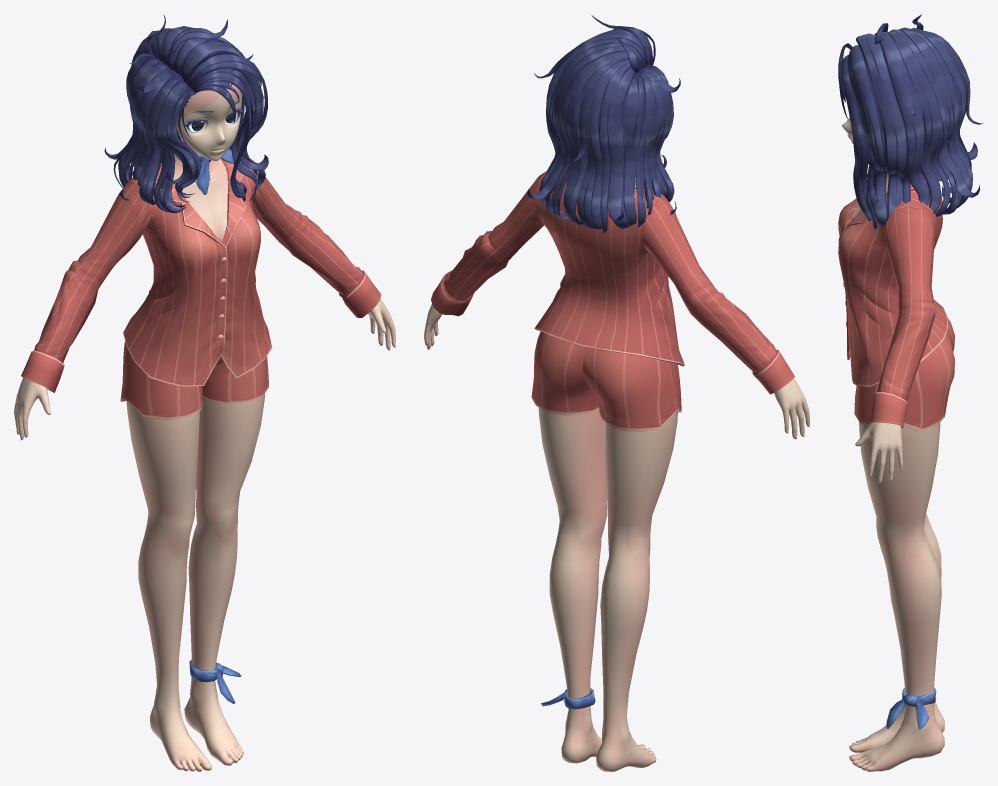
The model's file is sleepy_mita.glb.
The picture shows the model from 3 angles, left to right: view 1: azimuth 30°, elevation 25°; view 2: azimuth 150°, elevation 25°; view 3: azimuth 270°, elevation 25°; orthographic projection.
Parts seen in each view (by area): view 1: Clothes, Body_004, Hairs_003_1, Head_1_004, BodyTie2; view 2: Clothes, Body_004, Hairs_003_1; view 3: Clothes, Hairs_003_1, Body_004, BodyTie2.
Part boxes in pixels (x1,y1,x2,y2): Clothes: (21,158,381,419); Body_004: (14,154,395,771); Hairs_003_1: (104,14,268,213); Head_1_004: (176,83,243,161); BodyTie2: (189,660,241,703); Clothes: (431,171,794,431); Body_004: (424,304,809,771); Hairs_003_1: (527,15,680,232); Clothes: (838,166,954,431); Hairs_003_1: (838,14,983,229); Body_004: (849,173,944,771); BodyTie2: (886,688,936,729).
Bounding box in the file's own units: 1.77 × 3.33 × 0.6.
4 materials, 4 textured.
